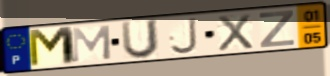J: (168, 16, 200, 56)
M: (25, 25, 78, 70), (69, 24, 113, 64)
U: (120, 18, 161, 61)
X: (216, 12, 255, 53)
Z: (258, 9, 296, 49)
